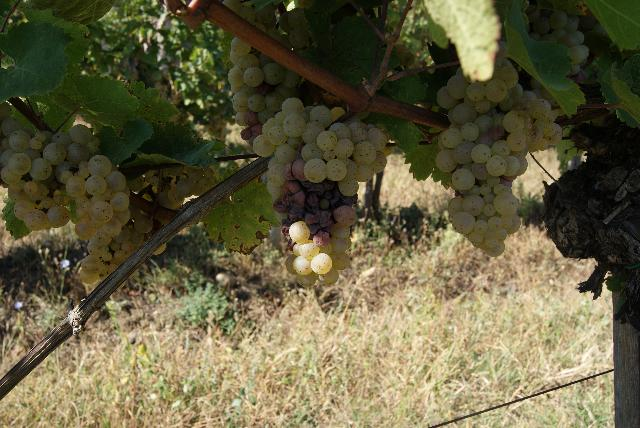grapes: (249, 92, 388, 288), (435, 60, 562, 258), (0, 115, 149, 280), (228, 38, 300, 126), (224, 0, 310, 50)
